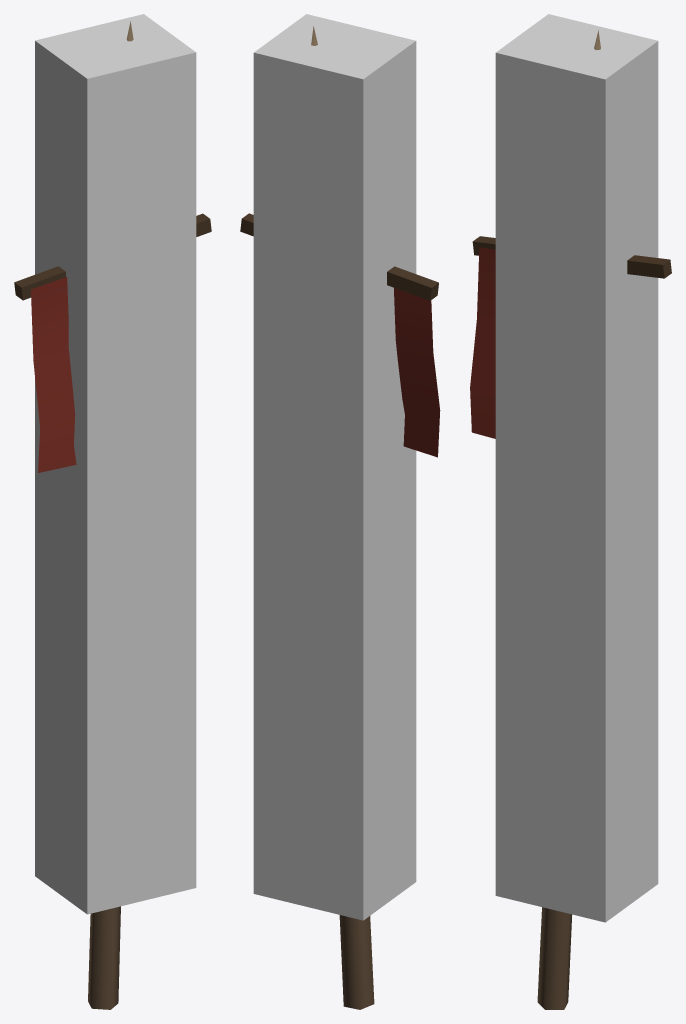
Rendered from skull_pike.glb.
3 renders of one model, left to right at view 1: azimuth 30°, elevation 25°; view 2: azimuth 150°, elevation 25°; view 3: azimuth 330°, elevation 25°, orthographic.
Visible parts, largest first — view 1: COL_pike, skull_pike; view 2: COL_pike, skull_pike; view 3: COL_pike, skull_pike.
Part boxes in pixels (bbox=[...]): COL_pike: bbox=[35, 14, 196, 914]; skull_pike: bbox=[14, 21, 211, 1009]; COL_pike: bbox=[253, 14, 416, 920]; skull_pike: bbox=[240, 26, 440, 1009]; COL_pike: bbox=[495, 14, 658, 922]; skull_pike: bbox=[470, 30, 671, 1009].
Size of the model in its own units: 0.524 by 2.55 by 0.25.
